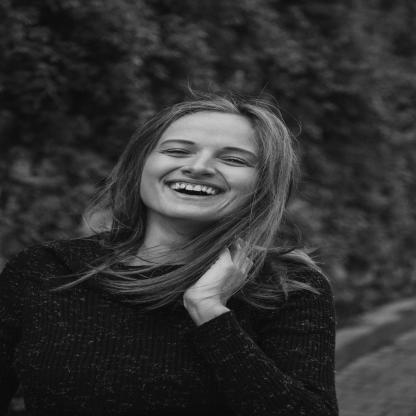Eye: (217, 153, 252, 168), (158, 146, 194, 160)
Mouth: (160, 178, 226, 202)
Nose: (178, 154, 216, 180)
